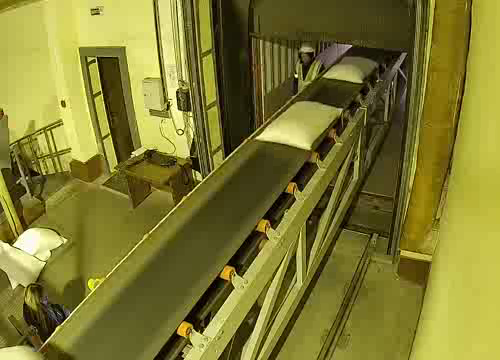bag: (252, 98, 348, 151), (319, 54, 384, 84), (0, 344, 44, 360)
